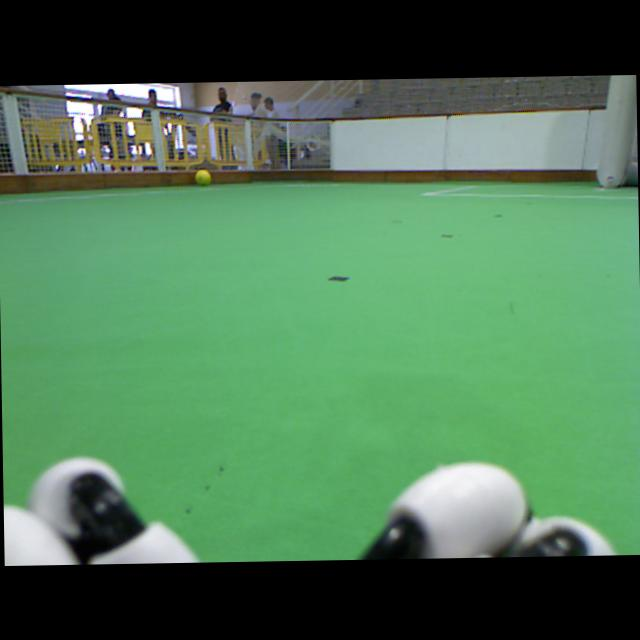ball: (194, 168, 209, 182)
